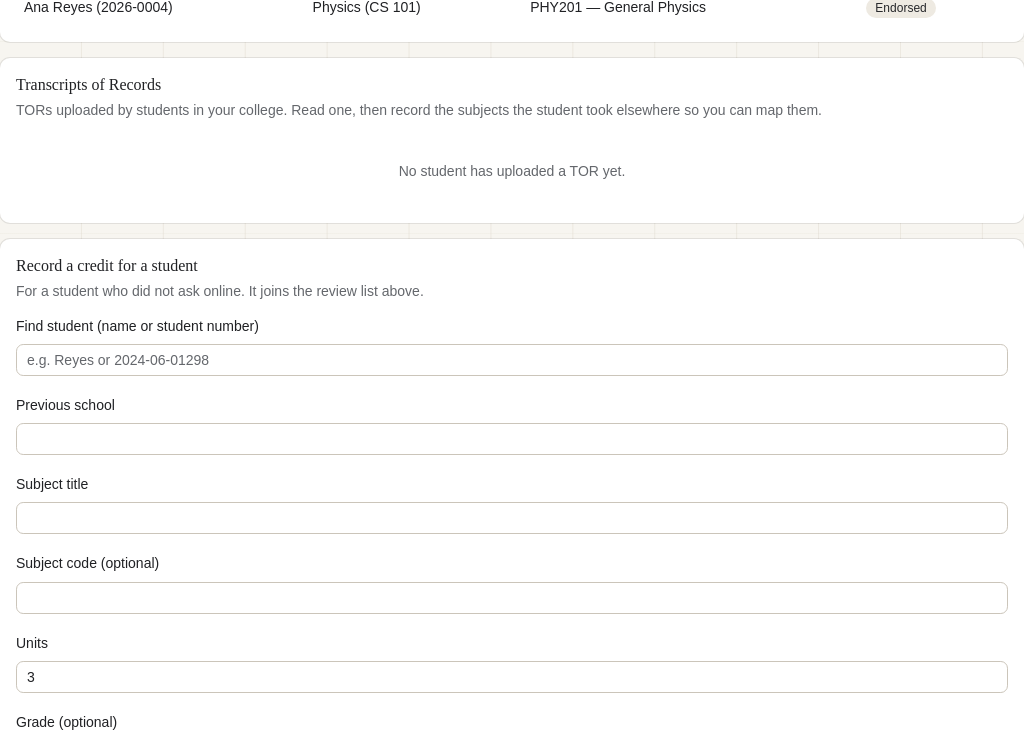
Test: ProgramChairCreditMappingsWorkspace › records a credit for a walk-in student found in the chair's college
(page scrolled)
Type "Santos" into the field labelled "Find student (name or student number)".
click(512, 360); type("Santos")  # box x1=16 y1=344 x2=1008 y2=376
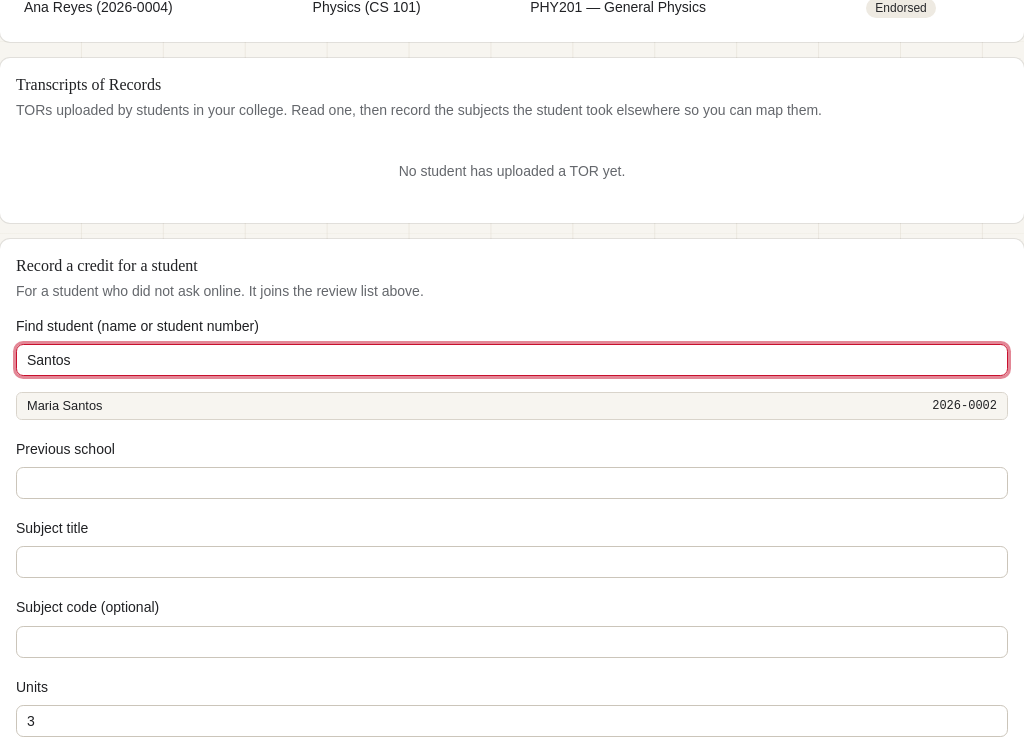
Click the button "Maria Santos 2026-0002".
click(65, 405)  # box x1=16 y1=392 x2=1008 y2=420
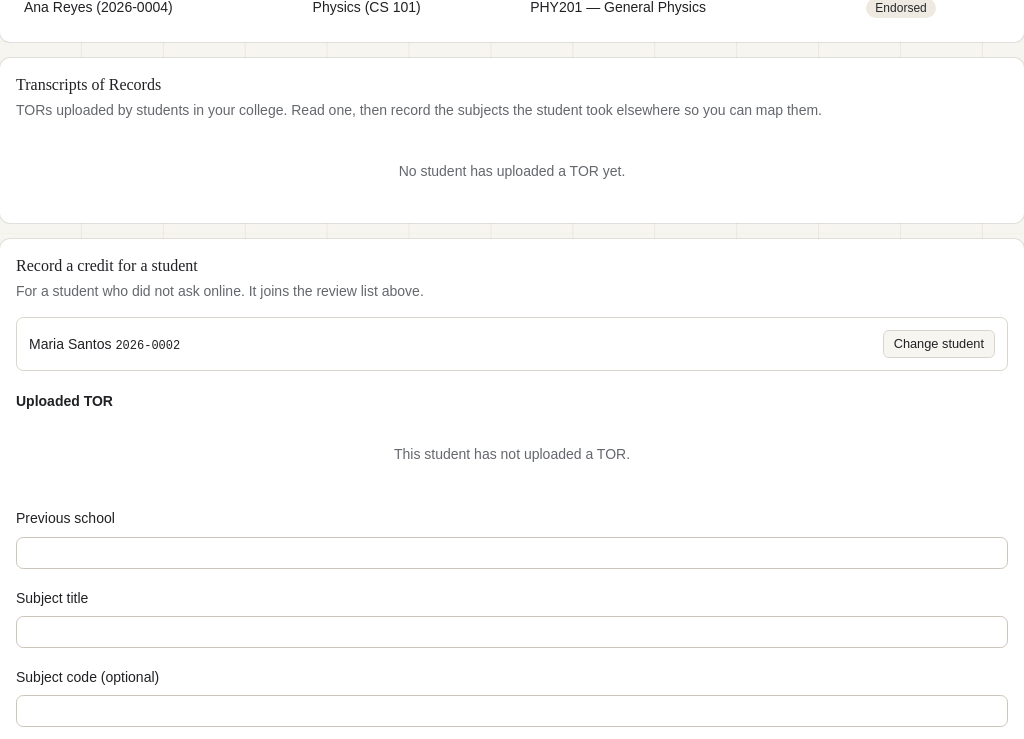
Type "FEU Tech" into the field labelled "Previous school".
click(512, 553); type("FEU Tech")  # box x1=16 y1=537 x2=1008 y2=569
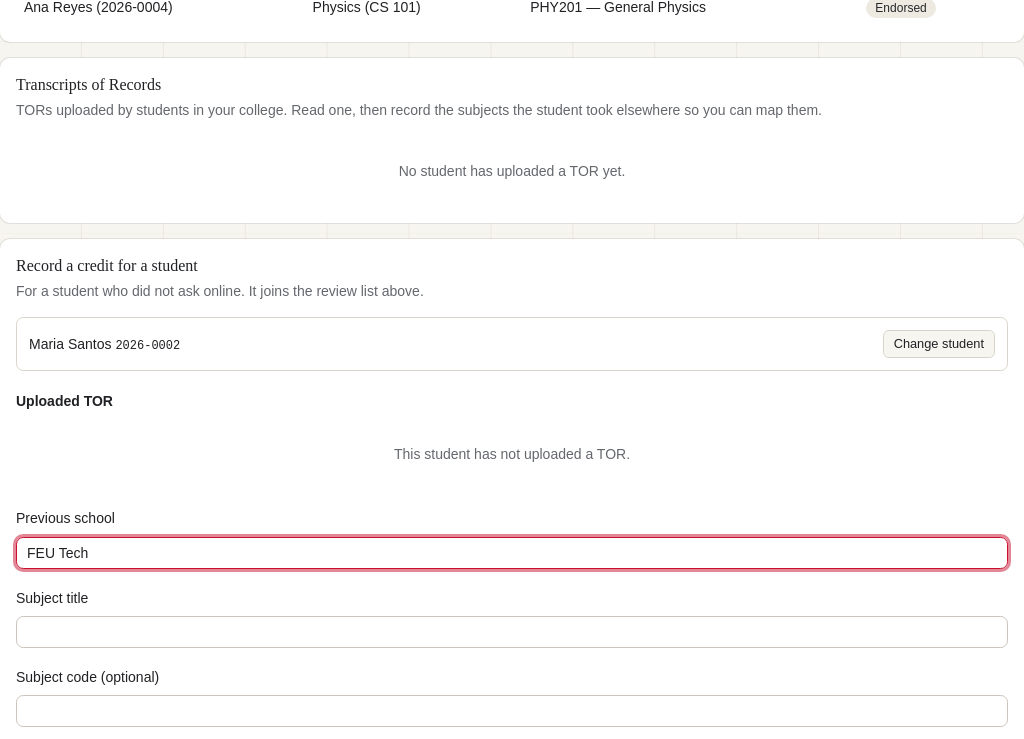
Type "Programming 1" into the field labelled "Subject title".
click(512, 632); type("Programming 1")  # box x1=16 y1=616 x2=1008 y2=648
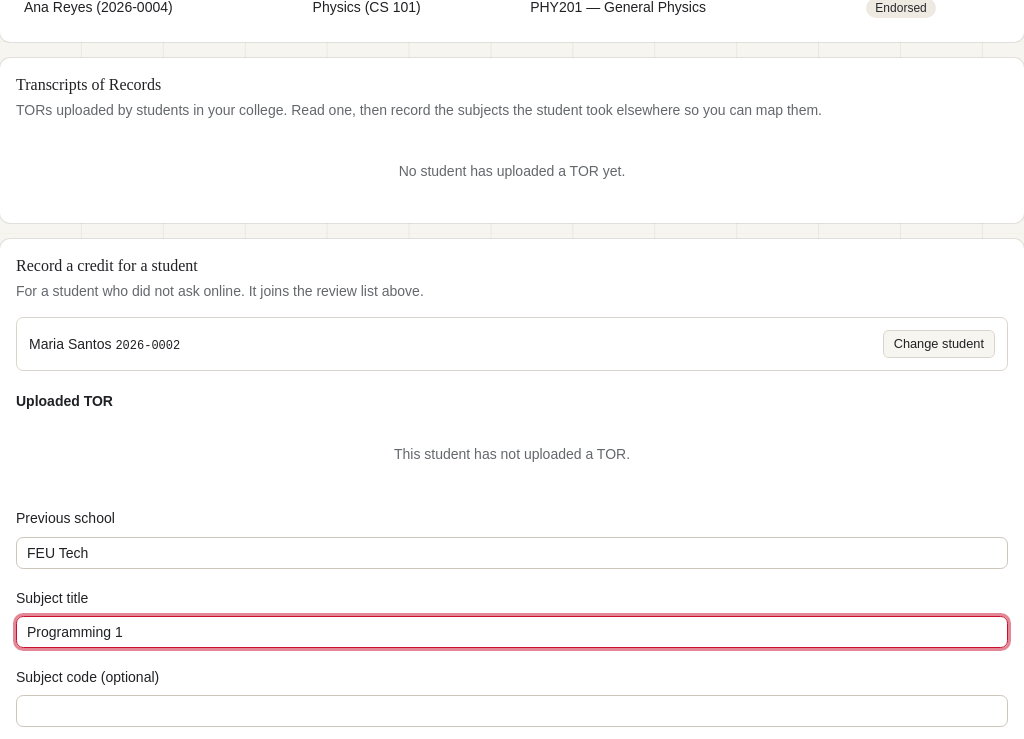
Type "prog101" into the field labelled "Subject code (optional)".
click(512, 711); type("prog101")  # box x1=16 y1=695 x2=1008 y2=727
(page scrolled)
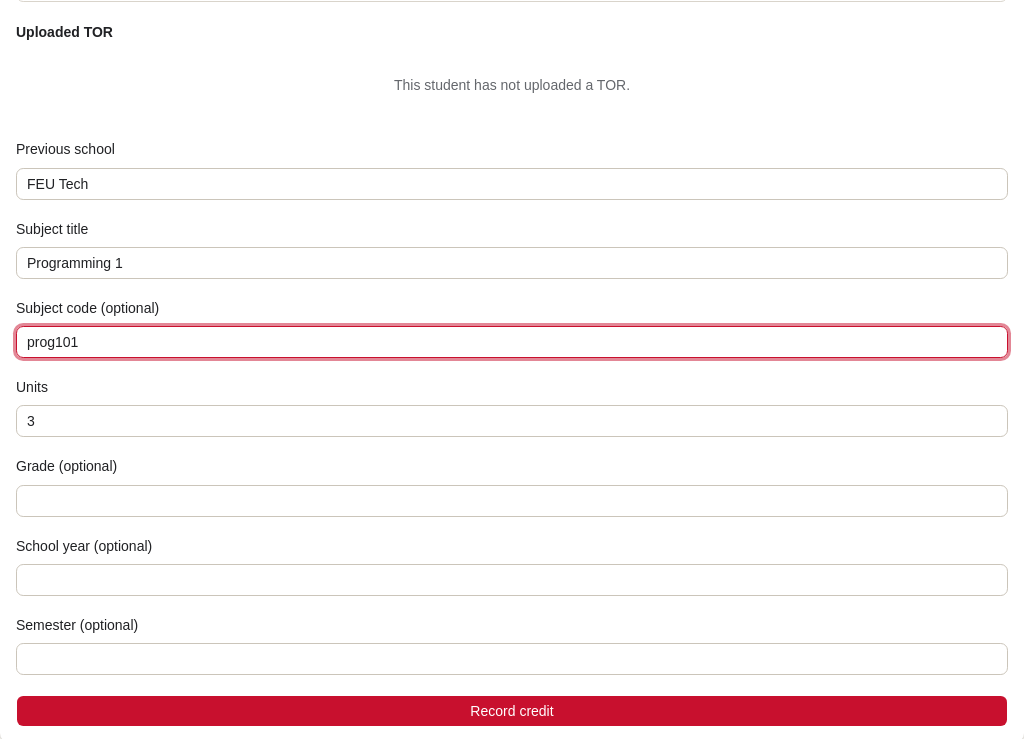
Click the button "Record credit".
click(512, 711)  # box x1=16 y1=695 x2=1008 y2=727
(page scrolled)
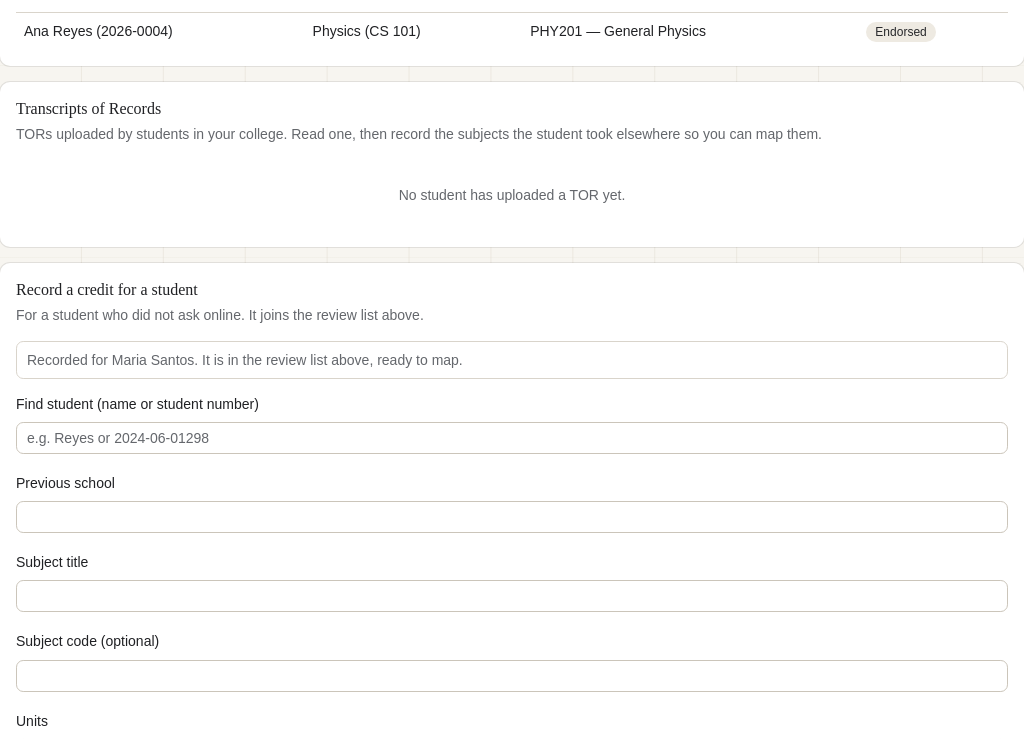
Expected: the text "Recorded for Maria Santos" is shown, x1=27 y1=352 x2=463 y2=368
